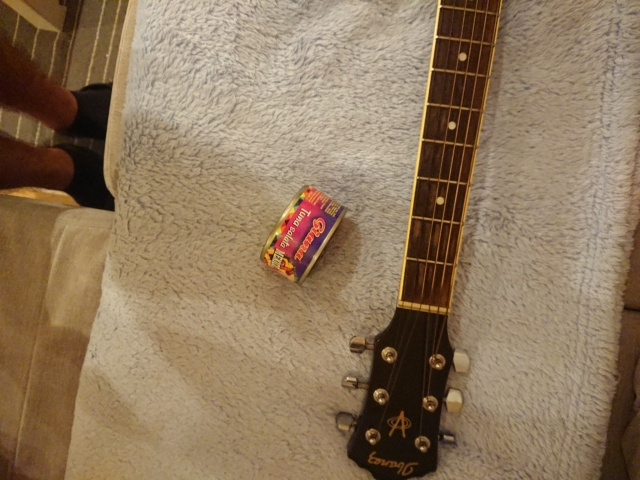Giana Tuna Salad Mexico 185g: (258, 181, 352, 289)
